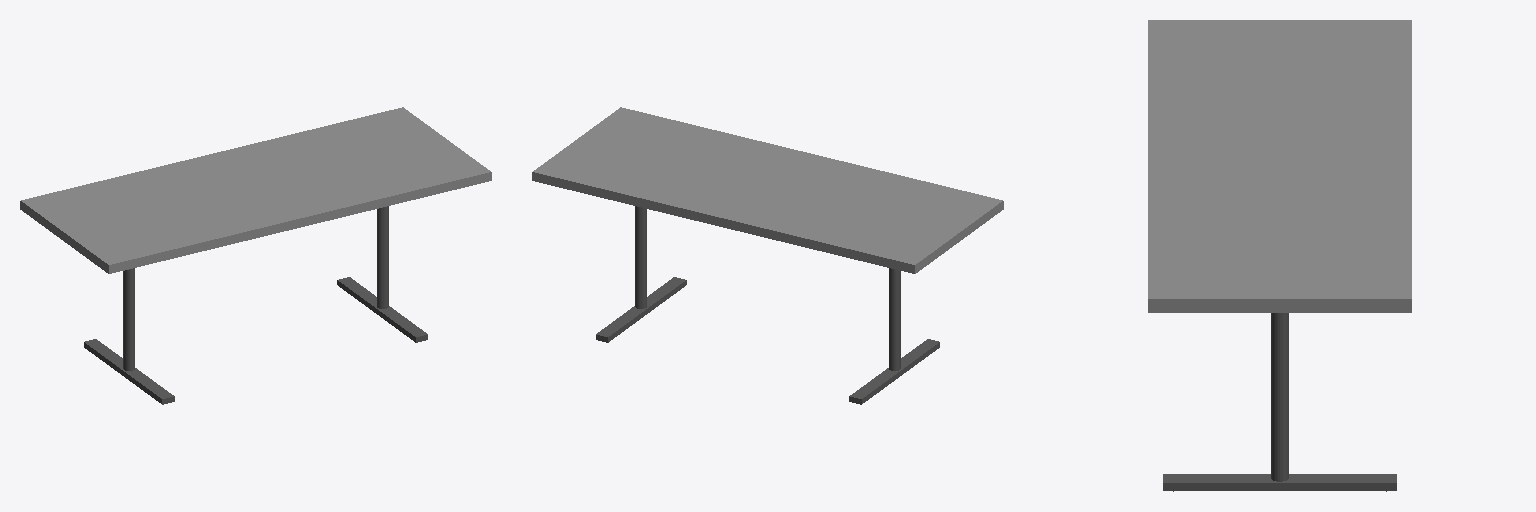
The robot description file, URDF, robot "conference_table":
<robot name="conference_table">
  <link name="base_link">
    <!-- Tabletop -->
    <collision>
      <origin xyz="0 0 0.714"/>
      <geometry>
        <box size="1.8515 0.741 0.042"/>
      </geometry>
    </collision>
    <visual>
      <origin xyz="0 0 0.714"/>
      <geometry>
        <box size="1.8515 0.741 0.042"/>
      </geometry>
      <material name="gray">
        <color rgba="0.6 0.6 0.6 1.0"/>
      </material>
    </visual>
    <!-- Table Legs -->
    <collision>
      <origin xyz="0.61375 0 0.364"/>
      <geometry>
        <cylinder radius="0.025" length="0.658"/>
      </geometry>
    </collision>
    <collision>
      <origin xyz="-0.61375 0 0.364"/>
      <geometry>
        <cylinder radius="0.025" length="0.658"/>
      </geometry>
    </collision>
    <visual>
      <origin xyz="0.61375 0 0.364"/>
      <geometry>
        <cylinder radius="0.025" length="0.658"/>
      </geometry>
      <material name="dark_gray">
        <color rgba="0.4 0.4 0.4 1.0"/>
      </material>
    </visual>
    <visual>
      <origin xyz="-0.61375 0 0.364"/>
      <geometry>
        <cylinder radius="0.025" length="0.658"/>
      </geometry>
      <material name="dark_gray">
        <color rgba="0.4 0.4 0.4 1.0"/>
      </material>
    </visual>
    <!-- Left table foot -->
    <collision>
      <origin xyz="0.61375 0 0.02"/>
      <geometry>
        <box size="0.06 0.66 0.025"/>
      </geometry>
    </collision>
    <collision>
      <origin xyz="0.61375 0.30 0.005"/>
      <geometry>
        <cylinder radius="0.015" length="0.01"/>
      </geometry>
    </collision>
    <collision>
      <origin xyz="0.61375 -0.30 0.005"/>
      <geometry>
        <cylinder radius="0.015" length="0.01"/>
      </geometry>
    </collision>
    <visual>
      <origin xyz="0.61375 0 0.02"/>
      <geometry>
        <box size="0.06 0.66 0.025"/>
      </geometry>
      <material name="dark_gray">
        <color rgba="0.4 0.4 0.4 1.0"/>
      </material>
    </visual>
    <visual>
      <origin xyz="0.61375 0.30 0.005"/>
      <geometry>
        <cylinder radius="0.015" length="0.01"/>
      </geometry>
      <material name="dark_gray">
        <color rgba="0.4 0.4 0.4 1.0"/>
      </material>
    </visual>
    <visual>
      <origin xyz="0.61375 -0.30 0.005"/>
      <geometry>
        <cylinder radius="0.015" length="0.01"/>
      </geometry>
      <material name="dark_gray">
        <color rgba="0.4 0.4 0.4 1.0"/>
      </material>
    </visual>
    <!-- Right table foot -->
    <collision>
      <origin xyz="-0.61375 0 0.02"/>
      <geometry>
        <box size="0.06 0.66 0.025"/>
      </geometry>
    </collision>
    <collision>
      <origin xyz="-0.61375 0.30 0.005"/>
      <geometry>
        <cylinder radius="0.015" length="0.01"/>
      </geometry>
    </collision>
    <collision>
      <origin xyz="-0.61375 -0.30 0.005"/>
      <geometry>
        <cylinder radius="0.015" length="0.01"/>
      </geometry>
    </collision>
    <visual>
      <origin xyz="-0.61375 0 0.02"/>
      <geometry>
        <box size="0.06 0.66 0.025"/>
      </geometry>
      <material name="dark_gray">
        <color rgba="0.4 0.4 0.4 1.0"/>
      </material>
    </visual>
    <visual>
      <origin xyz="-0.61375 0.30 0.005"/>
      <geometry>
        <cylinder radius="0.015" length="0.01"/>
      </geometry>
      <material name="dark_gray">
        <color rgba="0.4 0.4 0.4 1.0"/>
      </material>
    </visual>
    <visual>
      <origin xyz="-0.61375 -0.30 0.005"/>
      <geometry>
        <cylinder radius="0.015" length="0.01"/>
      </geometry>
      <material name="dark_gray">
        <color rgba="0.4 0.4 0.4 1.0"/>
      </material>
    </visual>
  </link>
</robot>

--- What the picture shows (computed from the rendered views, not written in the file) ---
The picture shows the robot from 3 angles, left to right: view 1: azimuth 30°, elevation 25°; view 2: azimuth 150°, elevation 25°; view 3: azimuth 270°, elevation 25°; orthographic projection.
Robot: conference_table — 1 links, 0 joints (none); root link base_link; default pose: all joints at 0.
Visible links, largest first — view 1: base_link; view 2: base_link; view 3: base_link.
Boxes of the visible links, x1=… form: base_link: x1=20, y1=107, x2=491, y2=404; base_link: x1=532, y1=107, x2=1003, y2=404; base_link: x1=1148, y1=20, x2=1411, y2=491.
Bounding box of the posed robot: 1.85 × 0.741 × 0.735 m (x, y, z).
Geometry: primitives only (box / cylinder / sphere), no mesh files.
